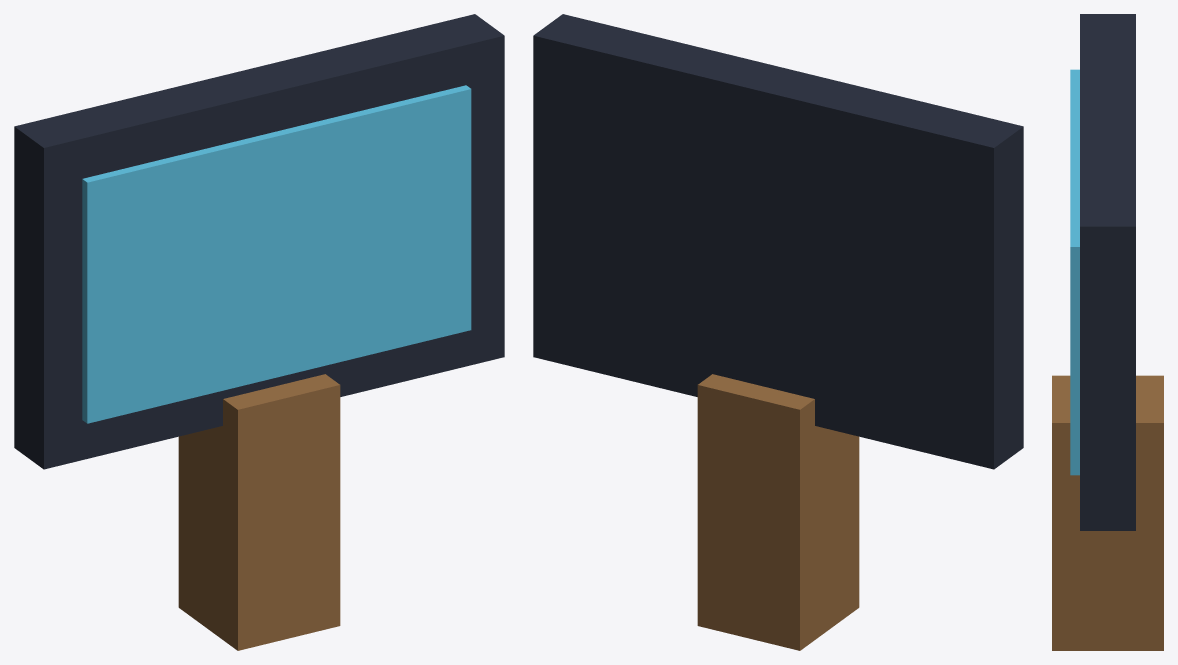
3 views of the same model, side by side, from view 1: azimuth 30°, elevation 25°; view 2: azimuth 150°, elevation 25°; view 3: azimuth 270°, elevation 25° (orthographic). The views are drawn at different scales.
Visible parts, largest first — view 1: tv; view 2: tv; view 3: tv.
Part boxes in pixels (x1=…): tv: x1=14, y1=14, x2=504, y2=650; tv: x1=533, y1=14, x2=1023, y2=650; tv: x1=1052, y1=14, x2=1163, y2=650.
Size of the model in its own units: 36 by 40 by 8.
